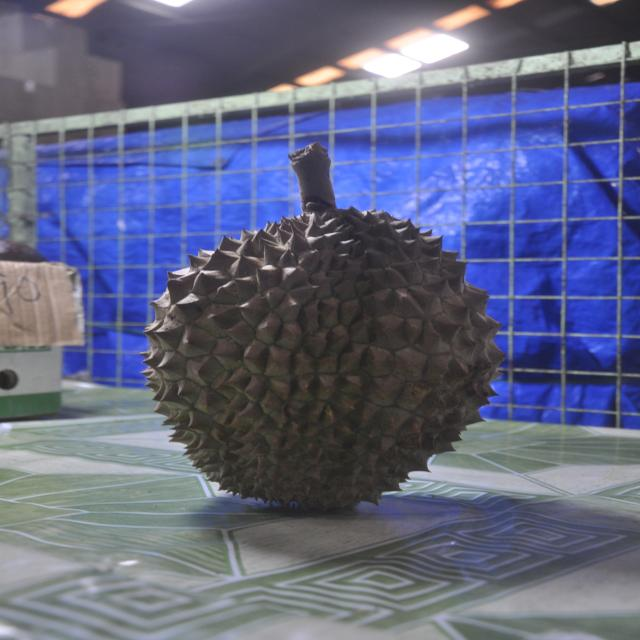mature: (144, 143, 504, 509)
